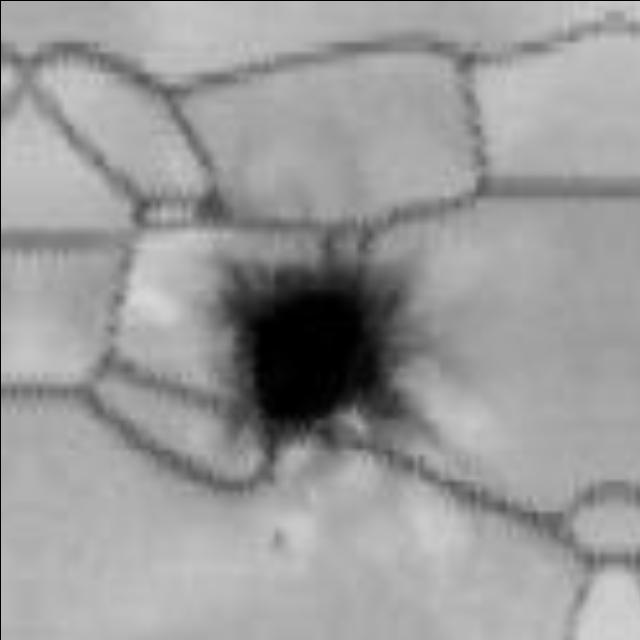good_void: (214, 227, 404, 467)
